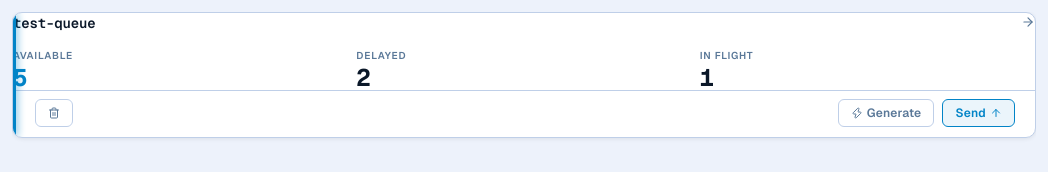
Test: QueueCard › shows Confirm delete? after clicking the trash button
# Click the leftmost (delete) button which has only an icon
Step 1. Click the 1st button → {"x": 54, "y": 113}, box [35,99,73,127]
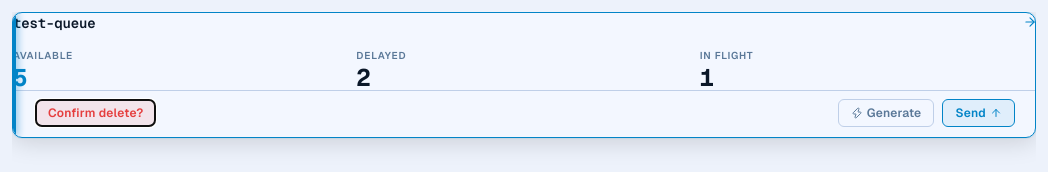
Check: the button "Confirm delete?" is shown, box [35,99,156,127]
